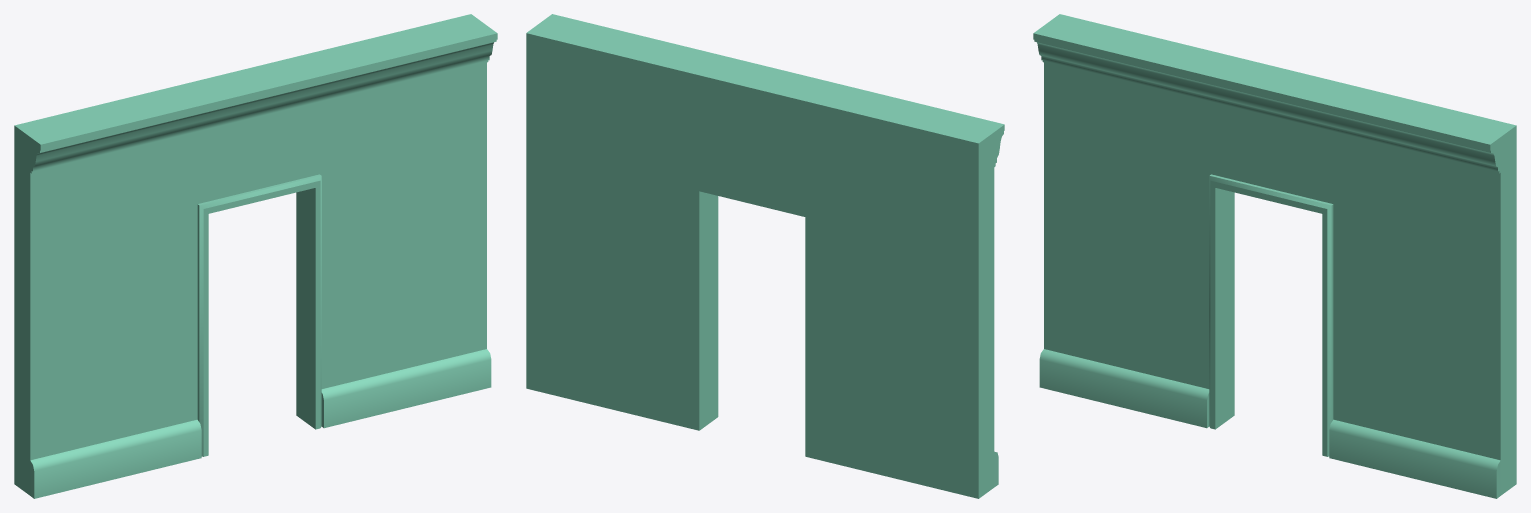
File: SM_WallDoor_3m_x_4m_02.fbx
3 views of the same model, side by side, from view 1: azimuth 30°, elevation 25°; view 2: azimuth 150°, elevation 25°; view 3: azimuth 330°, elevation 25° (orthographic).
Parts seen in each view (by area): view 1: Cube.008; view 2: Cube.008; view 3: Cube.008.
Part boxes in pixels (x1,y1,x2,y2): Cube.008: [14, 14, 497, 498]; Cube.008: [526, 14, 1004, 498]; Cube.008: [1033, 14, 1516, 498].
Size of the model in its own units: 4 by 3 by 0.3992.
